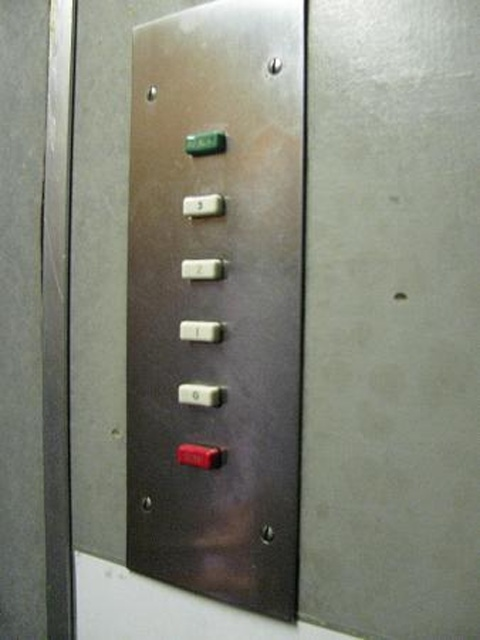1: (173, 315, 228, 348)
2: (174, 253, 229, 286)
3: (176, 189, 231, 222)
G: (172, 380, 227, 413)
text: (177, 128, 232, 161), (172, 440, 227, 473)
